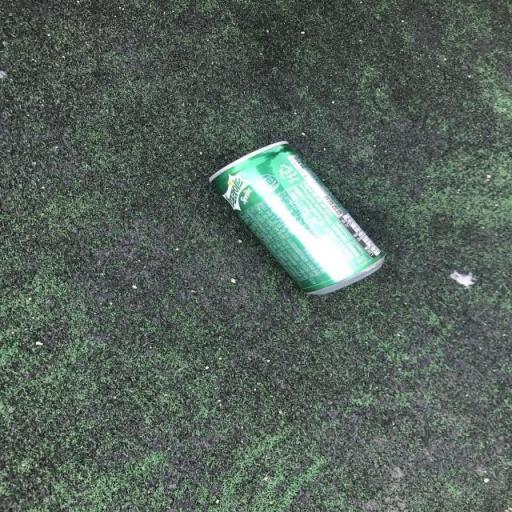metal: (194, 130, 404, 315)
